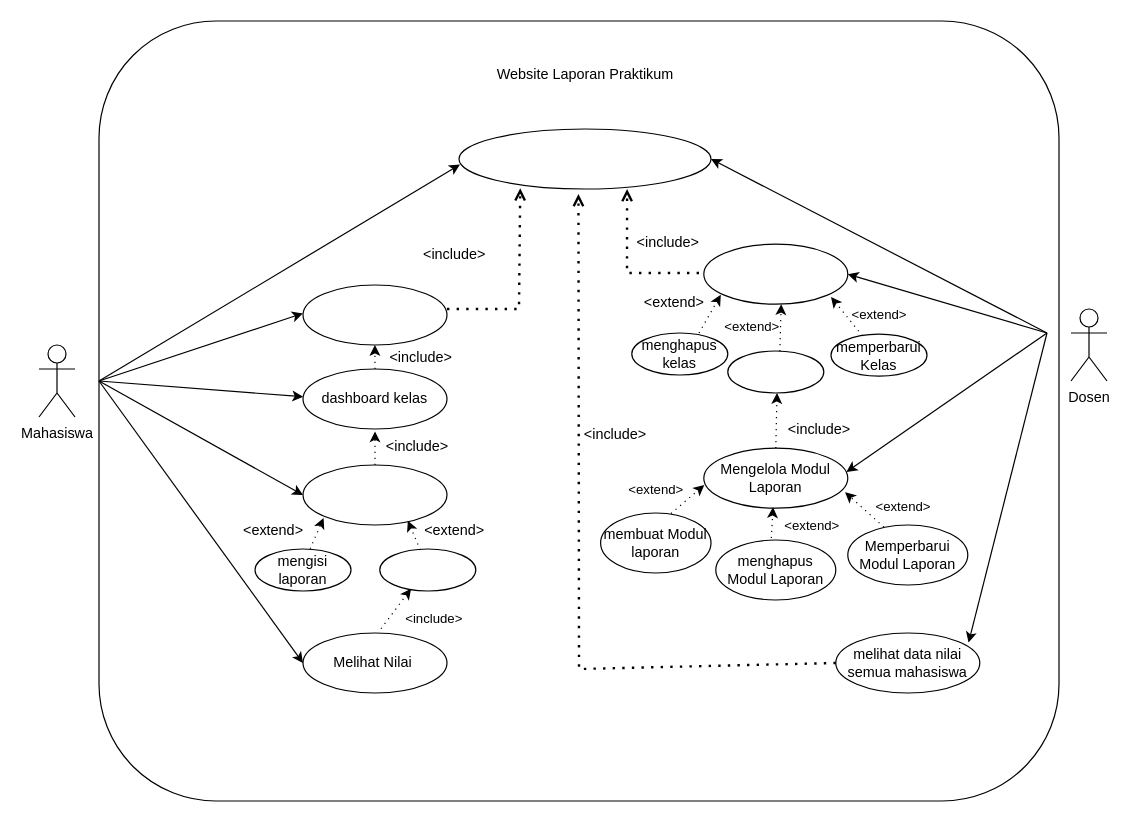
The diagram is 1130 pixels wide and 822 high, and some of its shapes have lost their labels. The shapes that lost their labels are listed below. From the top down, each one's centre as x and y in pixels, then its label:
At [584,158]: "Login".
At [775,273]: "Mengelola Kelas".
At [374,314]: "Mengisi kode Kelas".
At [775,371]: "membuat kelas".
At [374,494]: "Mengambil Modul Laporan".
At [427,569]: "mengirim laporan".
